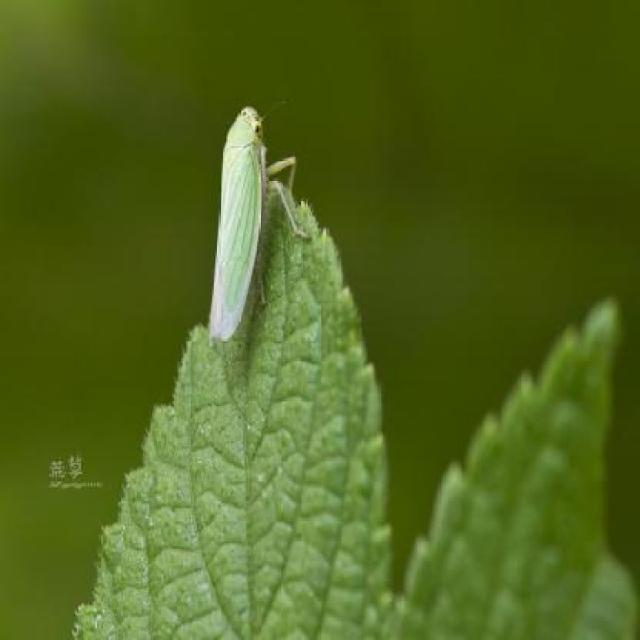green-leafhopper: (208, 104, 278, 338)
